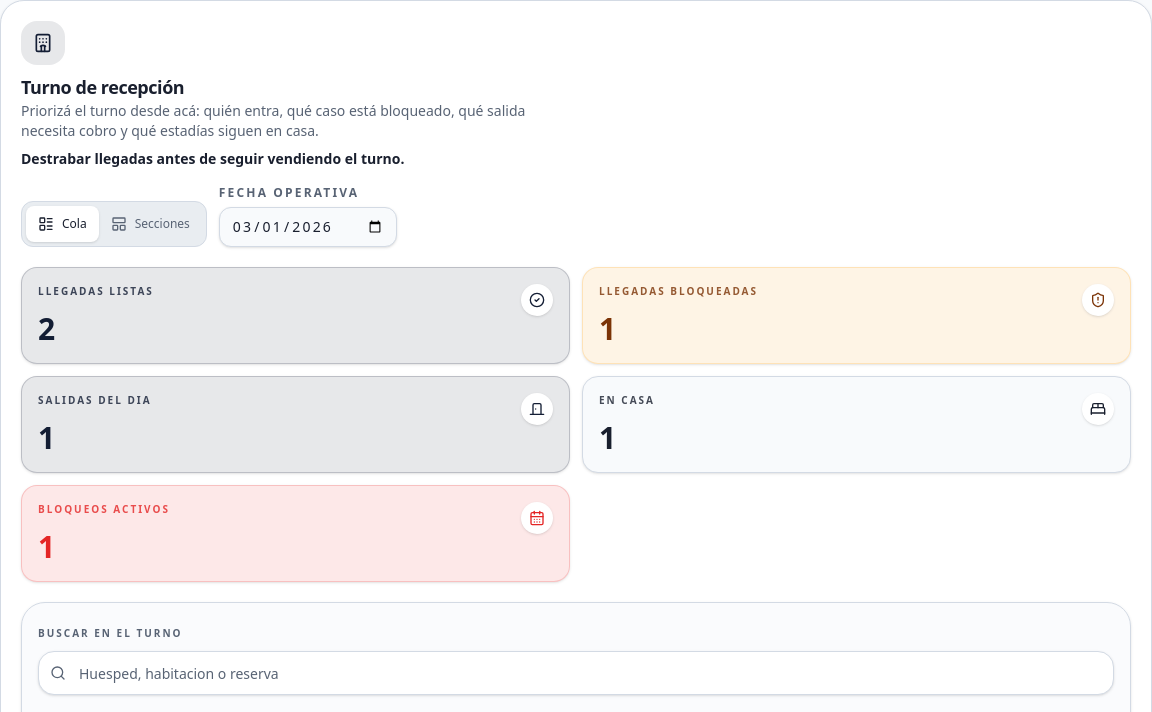
Scenario: FrontDeskBoardPanel › shows the empty state when nothing matches the search
Type "caso inexistente" into the search field labelled "Buscar en el turno" at (576, 673), box [38,651,1114,695]
(page scrolled)
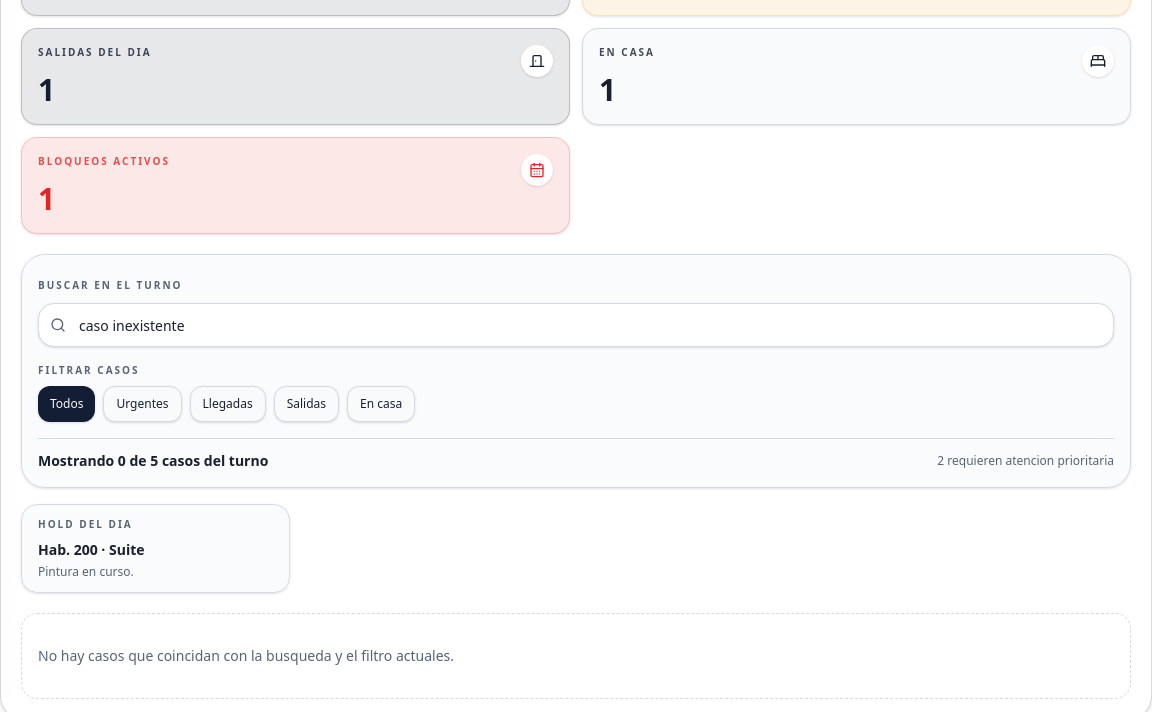
Expected: the text "No hay casos que coincidan con la busqueda y el filtro actuales" is shown, [38,646,454,665]
